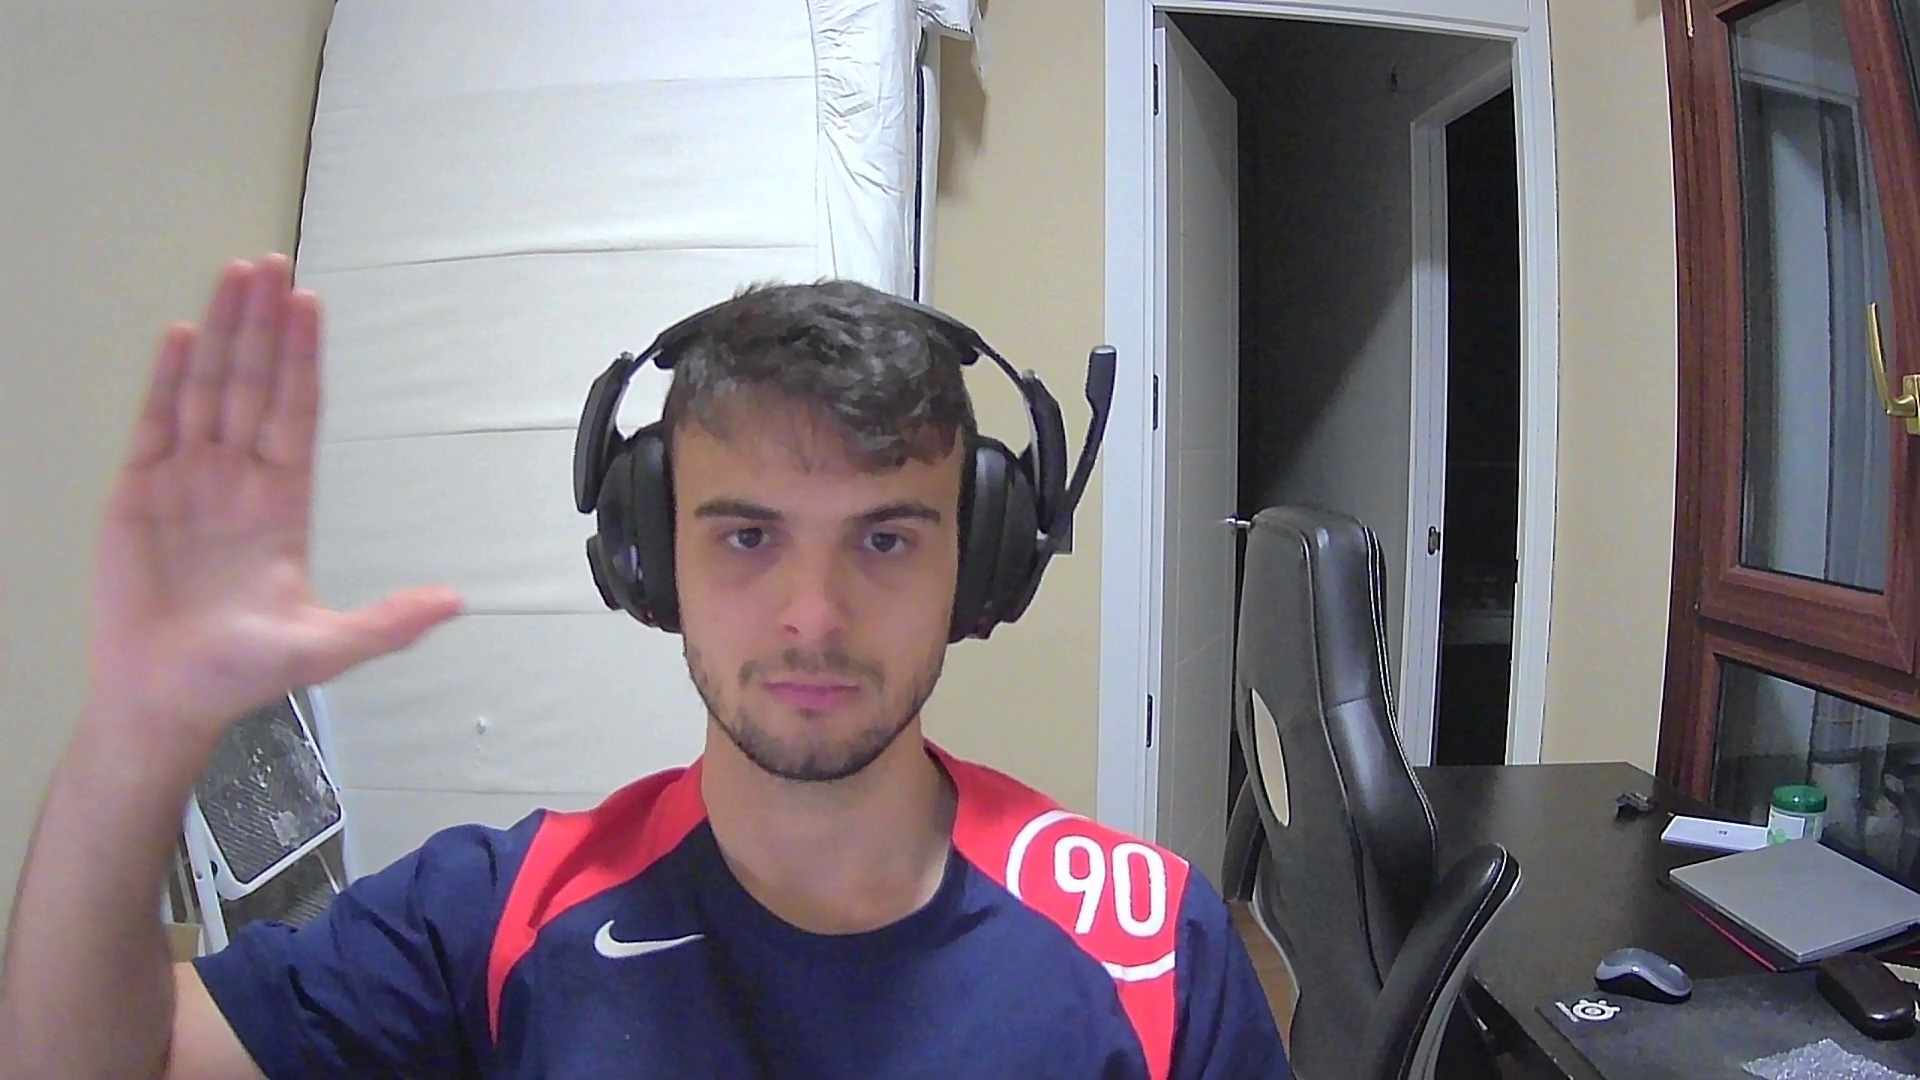Palm: (74, 251, 469, 703)
